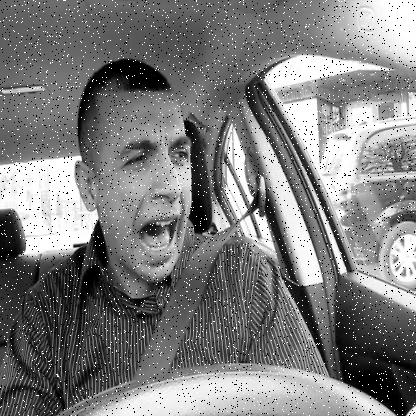seatbelt: (66, 44, 269, 410)
